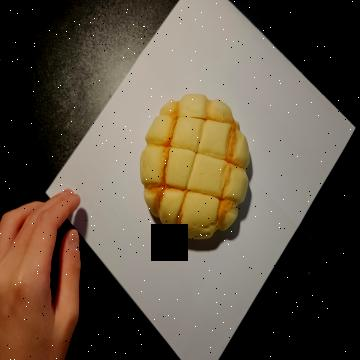melon_bread: (141, 93, 250, 244)
